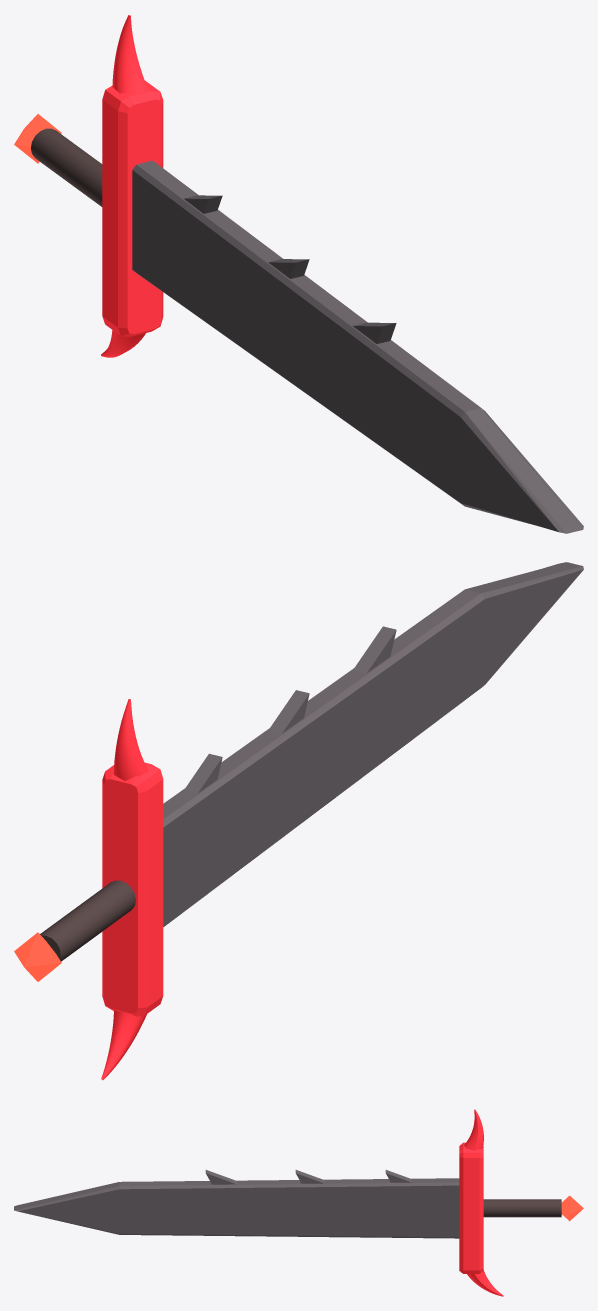
The model's file is espada_dk.glb.
3 renders of one model, top to bottom at view 1: azimuth 30°, elevation 25°; view 2: azimuth 150°, elevation 25°; view 3: azimuth 270°, elevation 25°, orthographic. The views are drawn at different scales.
Visible parts, largest first — view 1: Espada_DK; view 2: Espada_DK; view 3: Espada_DK.
Boxes of the visible parts, <box> form: Espada_DK: <box>14,15,583,533</box>; Espada_DK: <box>14,562,583,1079</box>; Espada_DK: <box>14,1109,583,1296</box>.
Bounding box in the file's own units: 0.07 × 0.5052 × 1.39.
